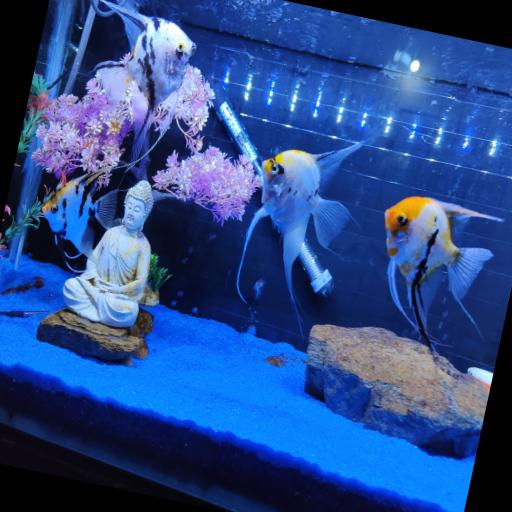Fish: (236, 142, 363, 328), (384, 197, 501, 351), (95, 1, 195, 164), (41, 170, 116, 256)
